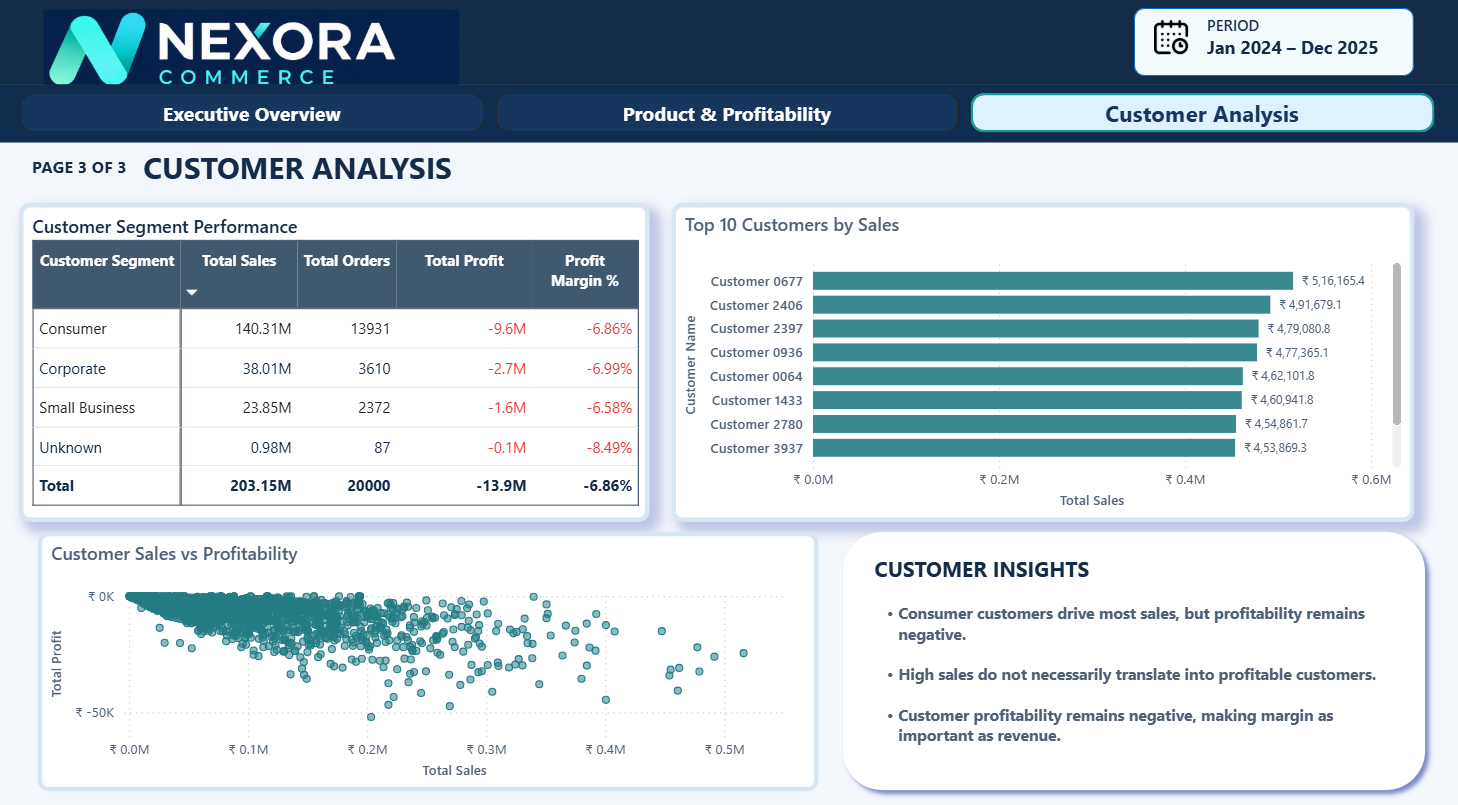

The dashboard page shown, as its layout file describes it:
{"tool":"powerbi","page":{"name":"Customer Analysis","canvas":[1300,720],"ordinal":2},"visuals":[{"type":"shape","box":[0,0,1300.5,77.2],"z":0},{"type":"image","box":[10,10,429.5,77.2],"z":1000},{"type":"shape","box":[0,77.2,1300.5,51.9],"z":2000},{"type":"textbox","box":[24.8,134.6,126.7,33.8],"z":3000},{"type":"textbox","box":[123.9,128.2,514.1,54.9],"z":4000},{"type":"pageNavigator","box":[18.7,85,1261.3,35.4],"z":5000},{"type":"shape","box":[1011.3,8.5,249.3,60.6],"z":6000},{"type":"textbox","box":[1070.4,9.9,166.2,59.2],"z":7000},{"type":"image","box":[1028.2,9.9,30.7,49.6],"z":8000},{"type":"pivotTable","title":"Customer Segment Performance","fields":{"Rows":["Customers_Clean.Customer_Segment"],"Values":["order_details_clean.Total sales","order_details_clean.Total Order","order_details_clean.Total Profit","order_details_clean.Profit Margin %"]},"box":[18.1,182.6,561.6,284.3],"z":9000},{"type":"clusteredBarChart","title":"Top 10 Customers by Sales","fields":{"Category":["Customers_Clean.Customer_Name"],"Y":["order_details_clean.Total sales"]},"box":[599.3,182.6,662,284.3],"z":10000},{"type":"scatterChart","title":"Customer Sales vs Profitability","fields":{"X":["order_details_clean.Total sales"],"Y":["order_details_clean.Total Profit"],"Category":["Customers_Clean.Customer_Name"]},"box":[34.8,475.2,695.4,231.3],"z":11000},{"type":"shape","box":[742.8,466.9,536.6,248.1],"z":12000},{"type":"textbox","box":[774.9,490.6,486.4,200.7],"z":13000}]}

Visuals, with their boxes in screenshot pixels (x1, y1, x2, y2), scaled from the page's 1300x720 canvas onto the 1458x805 screenshot:
shape: x1=0 y1=0 x2=1457 y2=86
image: x1=11 y1=11 x2=493 y2=97
shape: x1=0 y1=86 x2=1457 y2=144
textbox: x1=28 y1=150 x2=170 y2=188
textbox: x1=139 y1=143 x2=716 y2=205
pageNavigator: x1=21 y1=95 x2=1436 y2=135
shape: x1=1134 y1=10 x2=1414 y2=77
textbox: x1=1200 y1=11 x2=1387 y2=77
image: x1=1153 y1=11 x2=1188 y2=67
"Customer Segment Performance" pivotTable: x1=20 y1=204 x2=650 y2=522
"Top 10 Customers by Sales" clusteredBarChart: x1=672 y1=204 x2=1415 y2=522
"Customer Sales vs Profitability" scatterChart: x1=39 y1=531 x2=819 y2=790
shape: x1=833 y1=522 x2=1435 y2=799
textbox: x1=869 y1=549 x2=1415 y2=773
